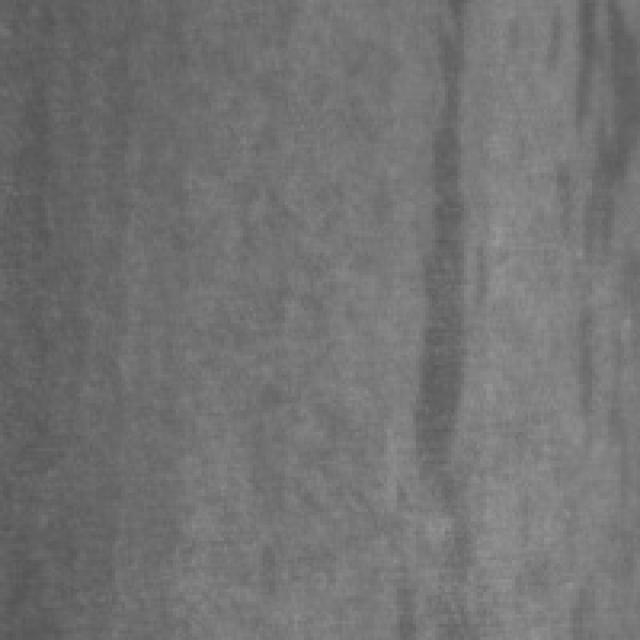inclusion: (403, 0, 483, 570), (550, 0, 634, 288), (560, 256, 611, 470)
